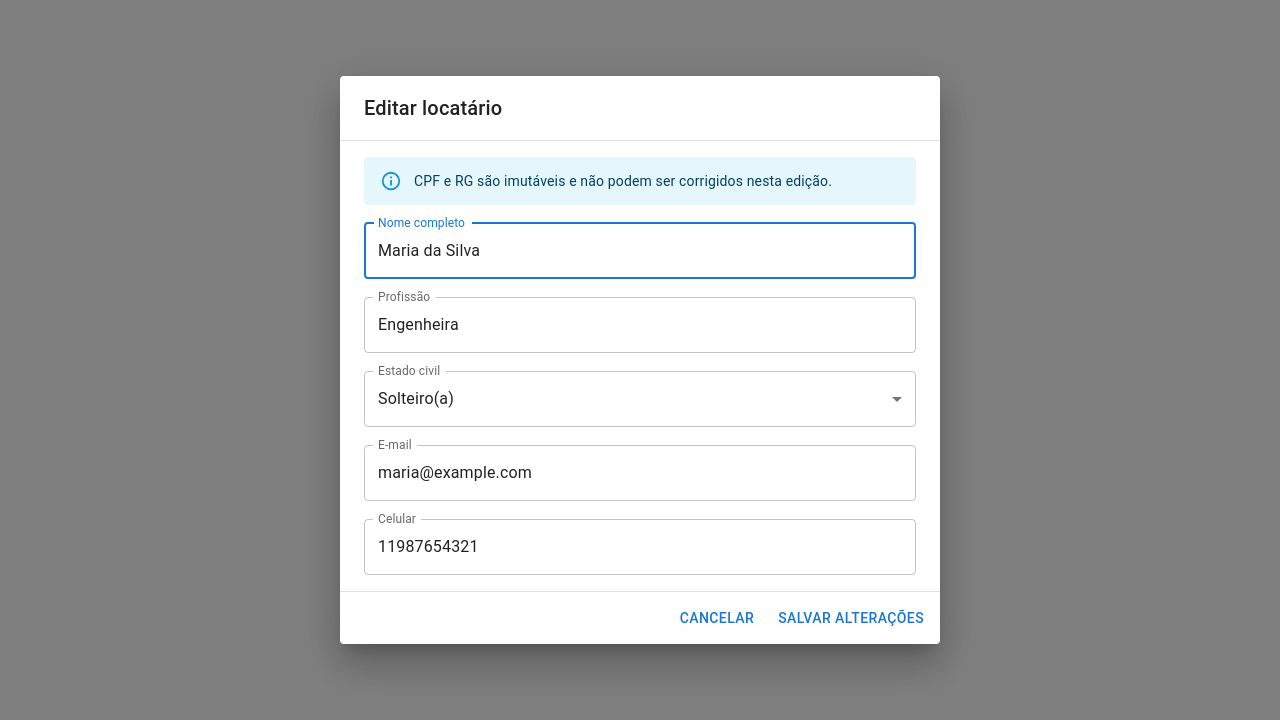
Scenario: EditTenantDialog › valida o e-mail antes de submeter
Replace the text in the field labelled "E-mail" with "invalido" at (640, 473), box x1=364 y1=445 x2=916 y2=501
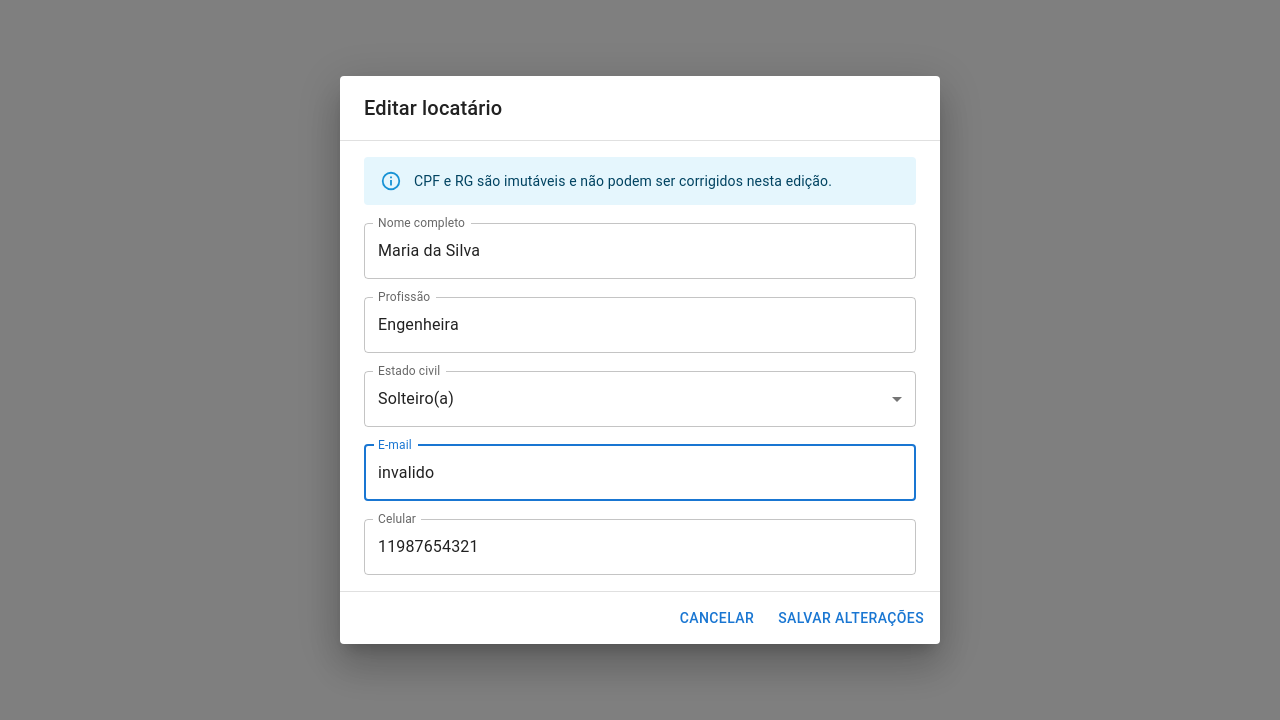
Click the button "Salvar alterações" at (851, 618), box x1=770 y1=600 x2=932 y2=636
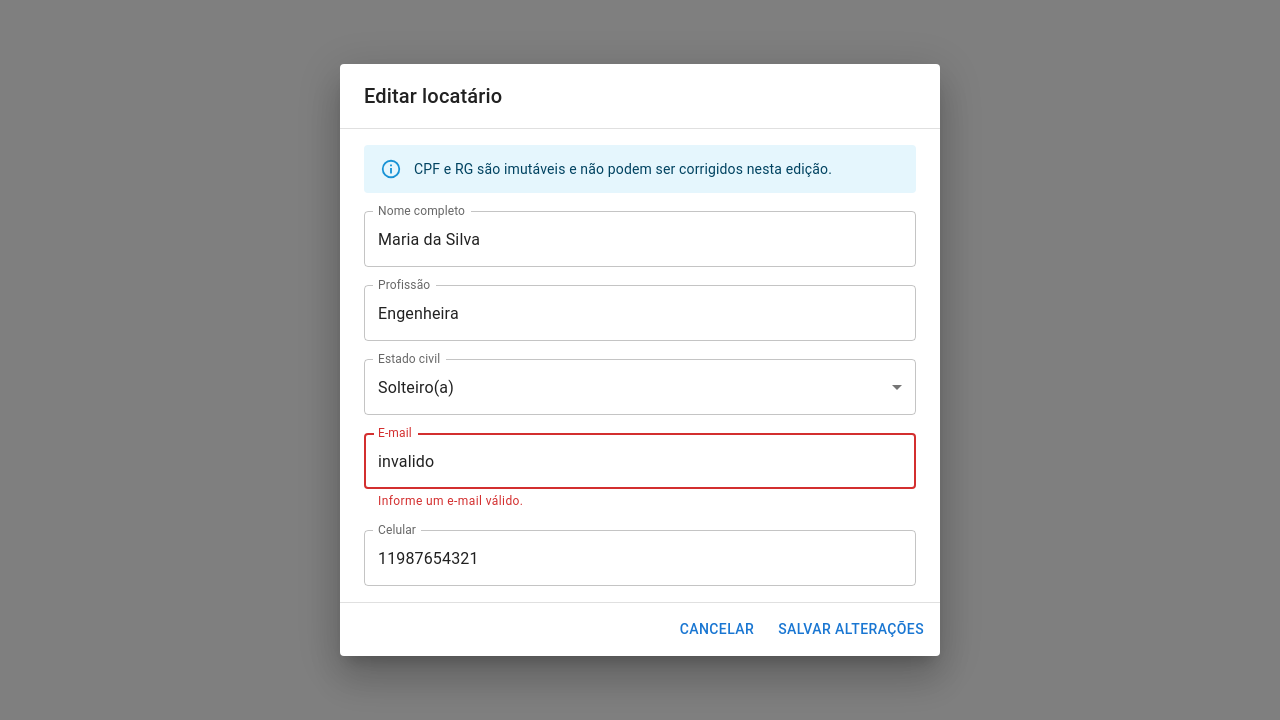
Expected: the text "Informe um e-mail válido." is shown, x1=378 y1=494 x2=523 y2=508
